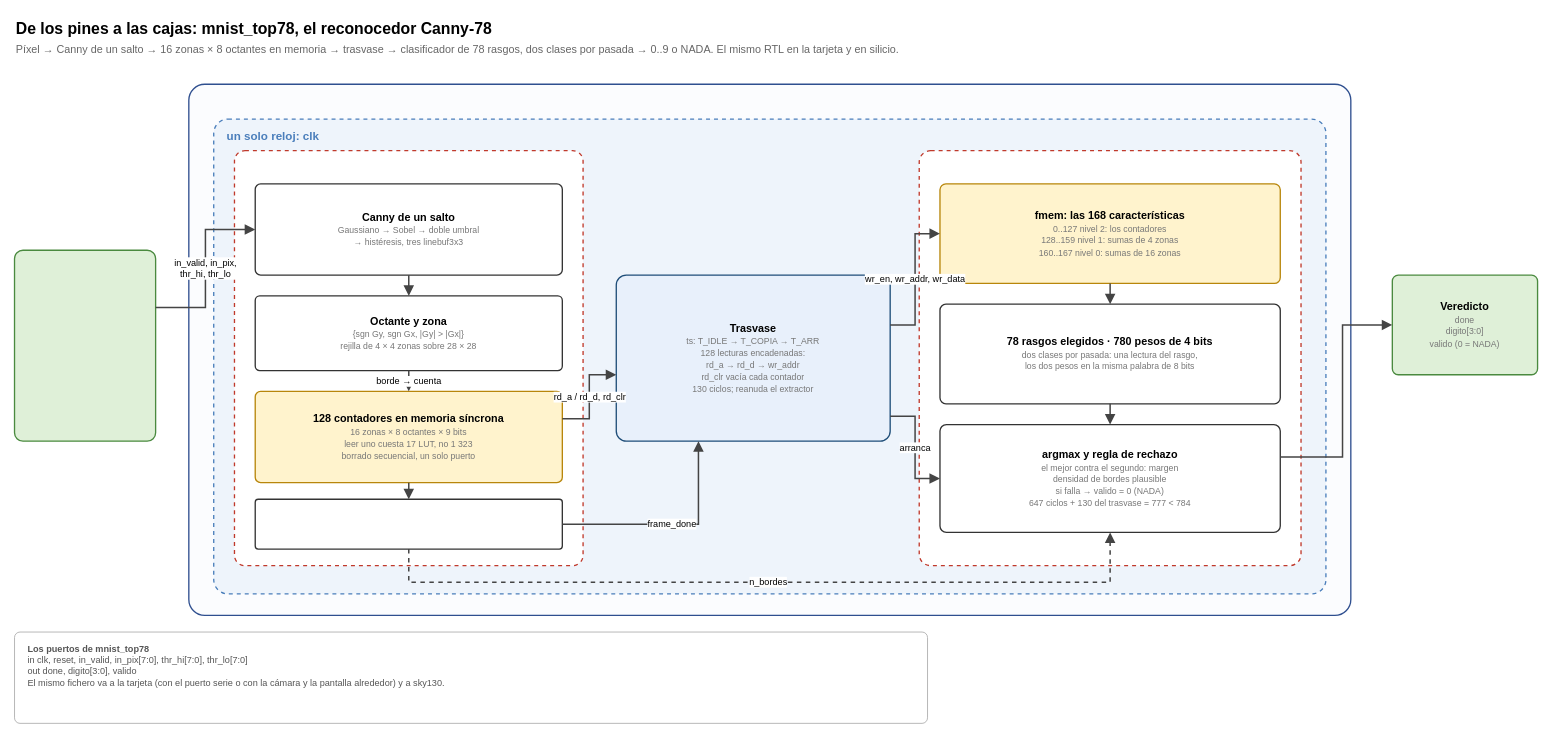
This 1553x738 diagram has some shape labels left out. Each missing label, with the box of its shape:
Entrada clk · reset in_valid in_pix[7:0] thr_hi[7:0] = 90 thr_lo[7:0] = 32: (13, 249, 156, 441)
frame_done · n_bordes: (254, 498, 563, 549)
mnist_clf78_x2 clf: (918, 150, 1301, 566)
mnist_feat16_mem ext: (233, 150, 583, 566)
module mnist_top78 — mnist_top78.v: (188, 83, 1351, 616)
